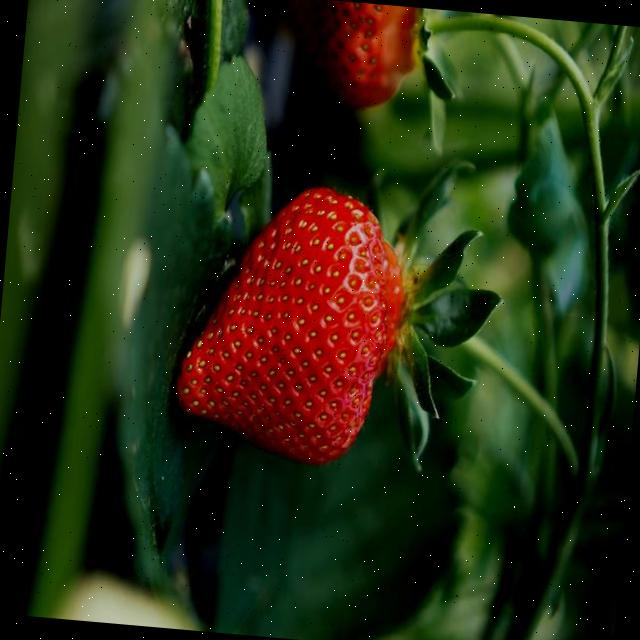strawberry: (175, 187, 404, 464), (288, 0, 417, 107)
